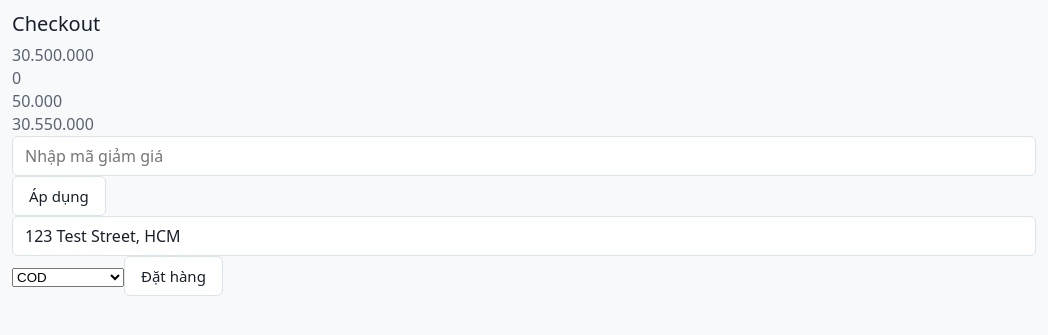
Test: Checkout Component Integration Tests › b) Test PriceCalculator component tinh gia real-time › TC2: Cap nhat gia khi ap dung coupon
Type "SALE10" into the field with test id "coupon-input" at (524, 156), box [12,136,1036,176]
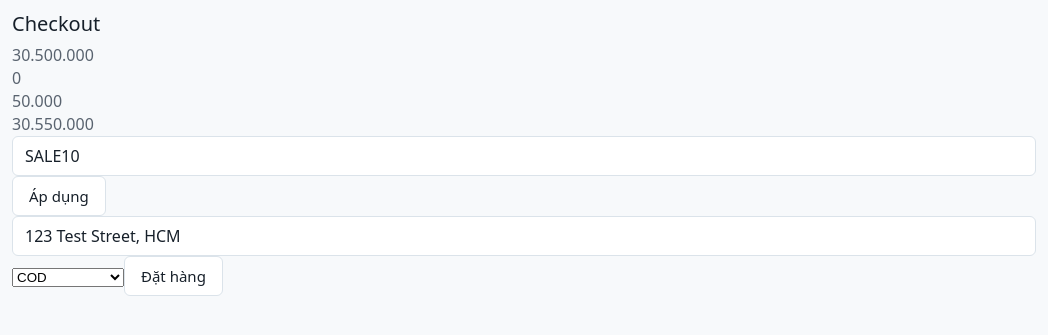
Click the button with test id "apply-coupon-btn" at (59, 196), box [12,176,106,216]
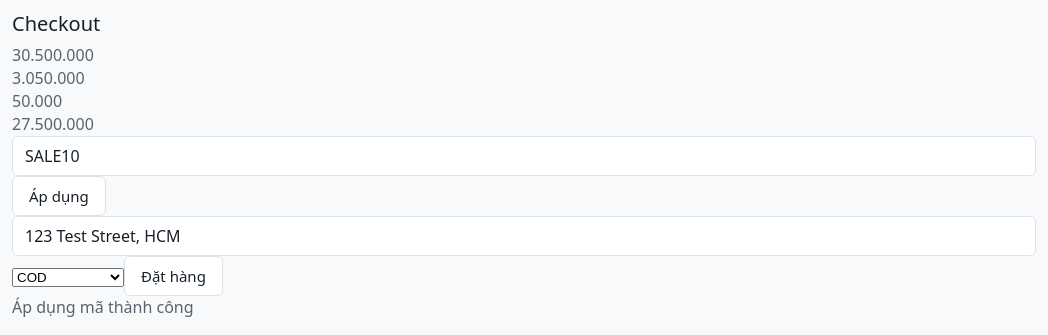
expect the text "Áp dụng mã thành công" is shown: met, box [12,296,194,318]
expect the text with test id "discount-display" reads "3.050.000": met, box [12,67,85,89]
expect the text with test id "total-display" reads "27.500.000": met, box [12,113,94,135]
